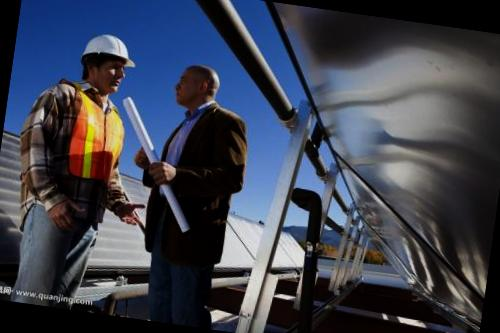no_helmet: (166, 58, 226, 114)
person: (1, 25, 160, 316), (117, 56, 264, 330)
